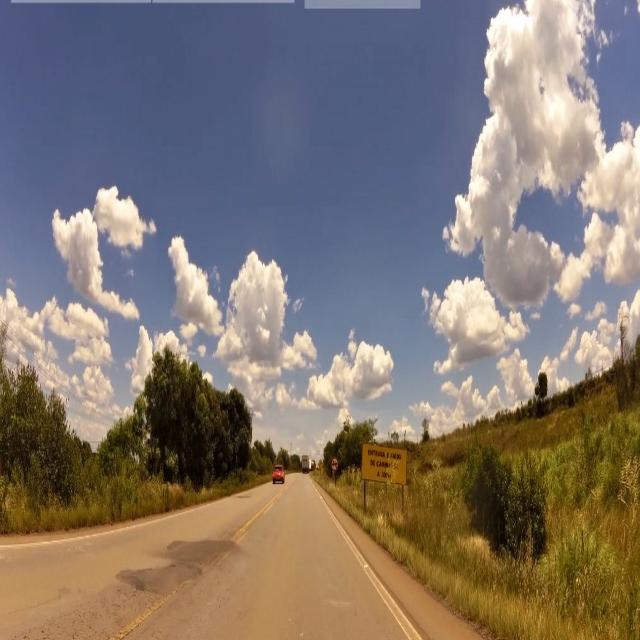ESP-20: (358, 437, 414, 481)
